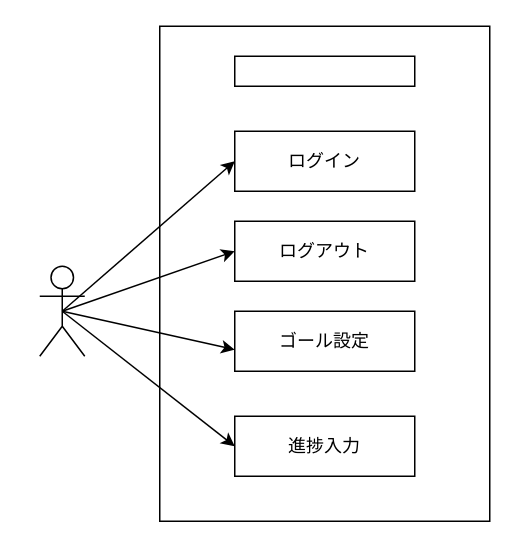
The diagram is 516 pixels wide and 548 high, and some of its shapes have lost their labels. The shapes that lost their labels are listed below. From the top down, each one's box as (x1, y1, x2, y2) in pixels, then its label:
(233, 55, 415, 86): tumiageシステム
(38, 265, 85, 356): ユーザー
